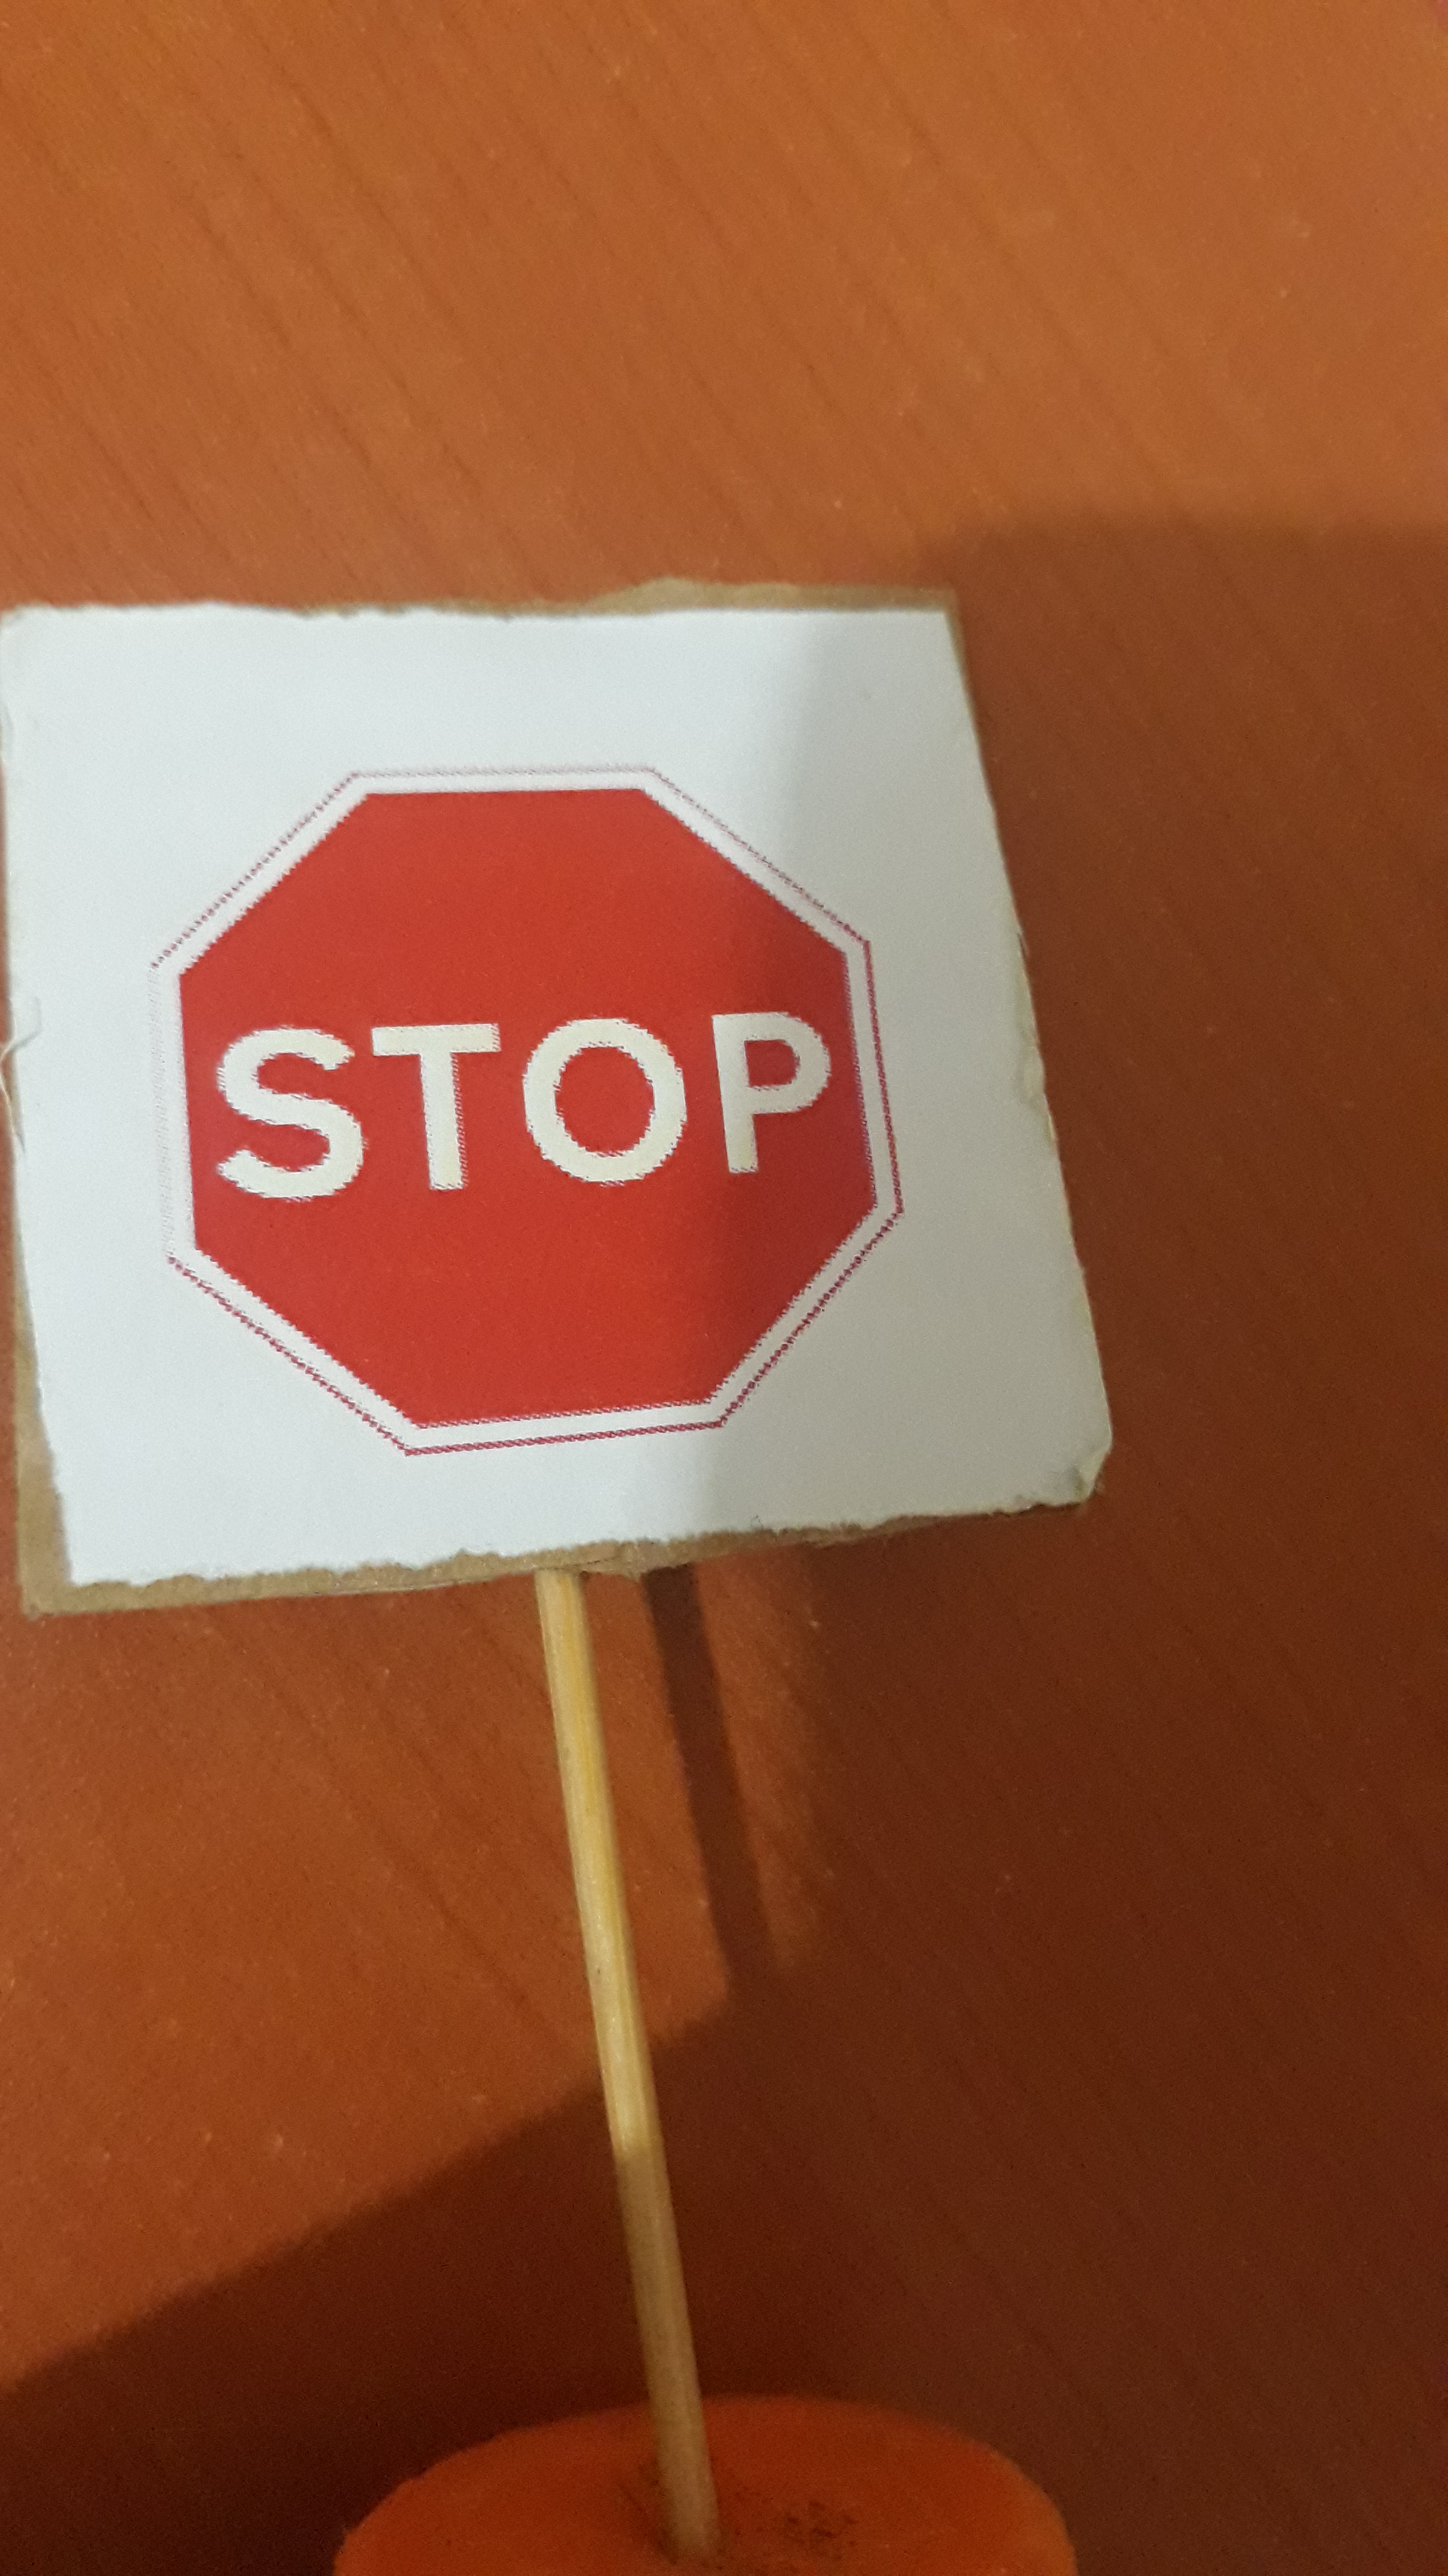stop: (127, 715, 947, 1467)
